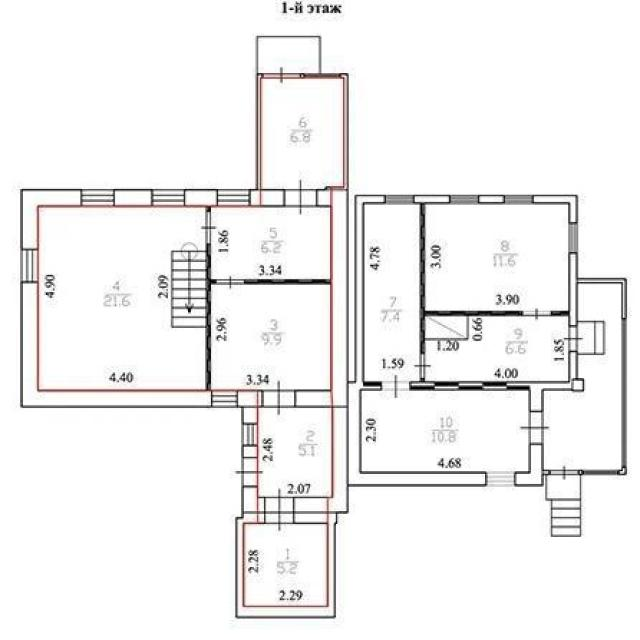Corridors: (425, 317, 569, 381), (262, 79, 343, 189), (211, 207, 330, 279), (543, 378, 622, 470), (244, 523, 327, 606), (257, 36, 320, 72), (546, 476, 581, 499)
Doors: (265, 487, 295, 533), (283, 178, 318, 215), (263, 379, 296, 417), (519, 411, 552, 444), (234, 457, 265, 487), (262, 67, 302, 86), (381, 374, 410, 400), (549, 462, 581, 482), (200, 210, 218, 244), (411, 353, 434, 379), (563, 325, 582, 352), (217, 273, 243, 292), (524, 306, 551, 323)
LBwalls: (20, 282, 212, 408), (294, 189, 350, 524), (348, 381, 487, 487), (354, 195, 385, 383), (20, 189, 81, 250), (532, 194, 579, 223), (514, 443, 543, 487), (241, 486, 265, 525), (114, 189, 152, 206), (185, 189, 218, 208), (250, 189, 286, 206), (569, 253, 577, 327), (237, 389, 263, 407), (530, 381, 544, 411), (414, 195, 449, 204), (241, 407, 258, 424), (543, 381, 572, 390), (569, 351, 578, 379), (479, 195, 505, 204), (241, 445, 258, 458), (571, 378, 585, 392)
Offices: (39, 208, 205, 389), (426, 205, 569, 310), (362, 390, 529, 471), (212, 284, 330, 389), (365, 204, 419, 380), (258, 408, 332, 497)
Stairs: (577, 283, 621, 378), (171, 249, 206, 328), (550, 499, 582, 538)
Walls: (420, 203, 524, 354), (236, 513, 337, 619), (325, 73, 348, 190), (577, 277, 627, 320), (205, 243, 217, 390), (410, 381, 530, 390), (256, 74, 265, 190), (243, 279, 331, 285), (361, 381, 381, 390), (551, 310, 569, 317), (617, 466, 627, 475), (543, 470, 550, 474), (301, 73, 304, 79)
Windows: (621, 319, 627, 467), (21, 249, 38, 283), (151, 189, 184, 206), (218, 189, 250, 206), (81, 189, 113, 206), (211, 390, 238, 407), (487, 471, 514, 487), (242, 423, 258, 446), (385, 195, 414, 205), (569, 223, 578, 253), (449, 195, 478, 204), (504, 195, 532, 204), (582, 470, 618, 475), (304, 74, 341, 78)
